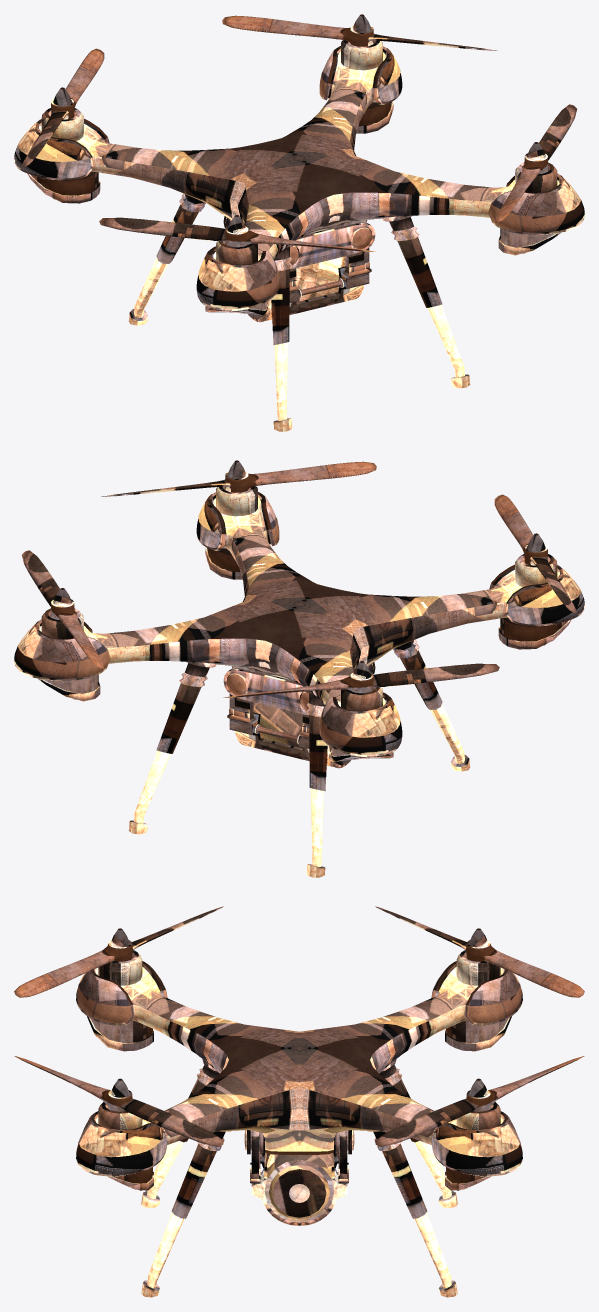
The model's file is yellow.gltf.
The picture shows the model from 3 angles, top to bottom: view 1: azimuth 30°, elevation 25°; view 2: azimuth 150°, elevation 25°; view 3: azimuth 270°, elevation 25°; orthographic projection. The views are drawn at different scales.
Parts seen in each view (by area): view 1: DroneA; view 2: DroneA; view 3: DroneA.
Boxes of the visible parts, x1,y1,x2,y2 form: DroneA: (14,14,584,431); DroneA: (14,460,584,877); DroneA: (14,906,584,1297).
Bounding box in the file's own units: 1.98 × 0.9453 × 2.
